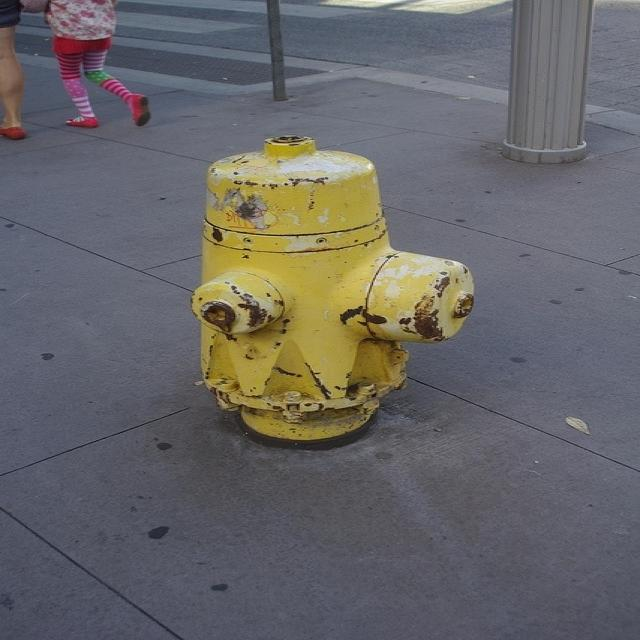fire_hydrant: (96, 42, 572, 557)
